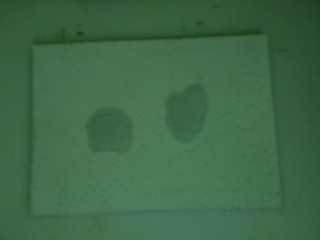Water_detected: (88, 108, 135, 151), (176, 102, 207, 139)
